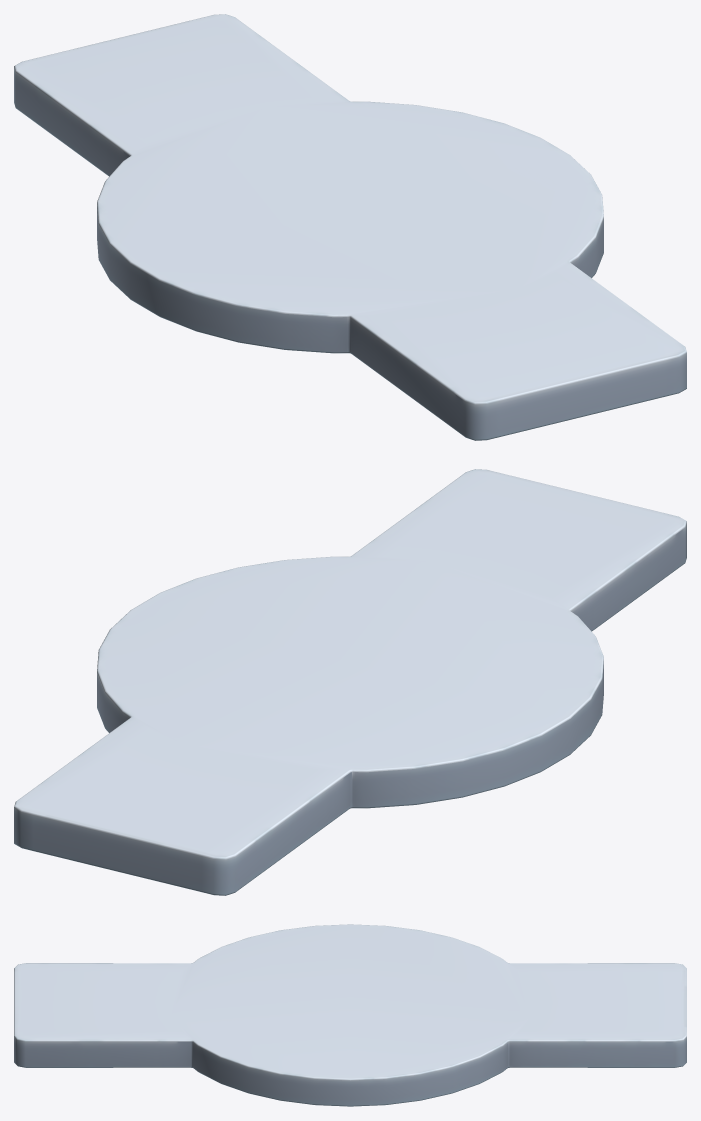
Rendered from circle_platform_1.fbx.
3 renders of one model, top to bottom at view 1: azimuth 30°, elevation 25°; view 2: azimuth 150°, elevation 25°; view 3: azimuth 270°, elevation 25°, orthographic. The views are drawn at different scales.
Parts seen in each view (by area): view 1: Cylinder; view 2: Cylinder; view 3: Cylinder.
Boxes of the visible parts, left/top/right/bottom form: Cylinder: left=14, top=14, right=686, bottom=440; Cylinder: left=14, top=469, right=686, bottom=895; Cylinder: left=14, top=924, right=686, bottom=1106.
Bounding box in the file's own units: 2400 × 200 × 4400.
